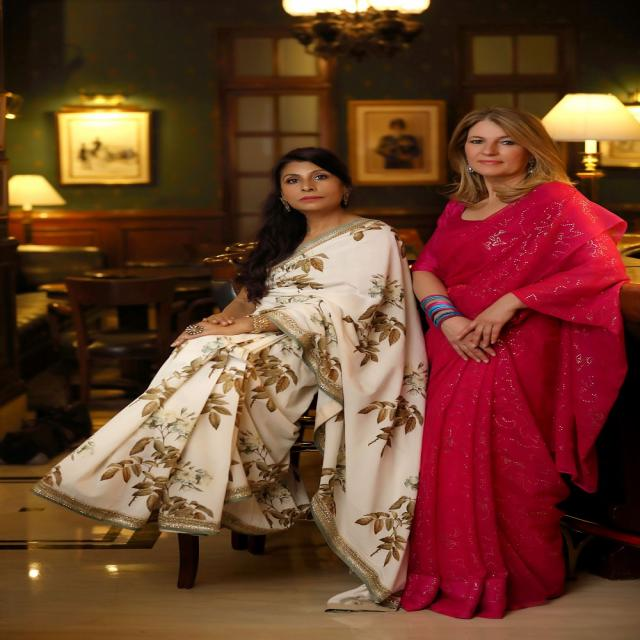female-dress: (150, 232, 427, 579), (408, 185, 626, 610)
